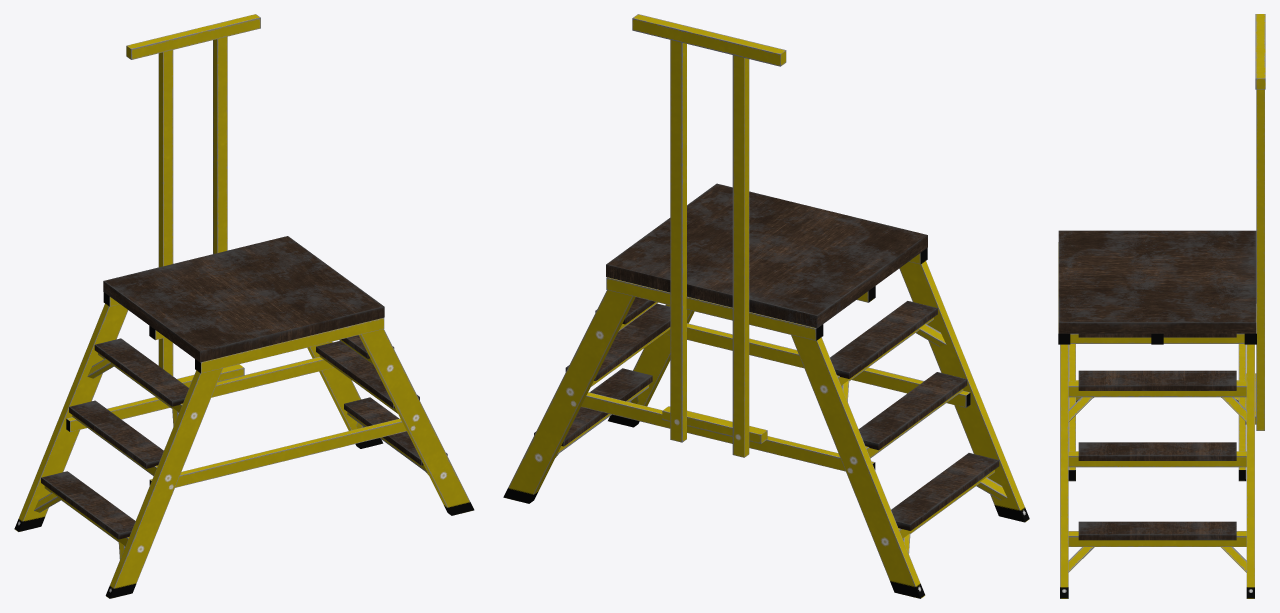
File: ladder.fbx
The picture shows the model from 3 angles, left to right: view 1: azimuth 30°, elevation 25°; view 2: azimuth 150°, elevation 25°; view 3: azimuth 270°, elevation 25°; orthographic projection. The views are drawn at different scales.
Visible parts, largest first — view 1: Ladder; view 2: Ladder; view 3: Ladder.
Part boxes in pixels (<box>): Ladder: <box>14,14,474,598</box>; Ladder: <box>503,14,1029,598</box>; Ladder: <box>1058,14,1265,598</box>.
Size of the model in its own units: 168 by 199 by 81.16.
